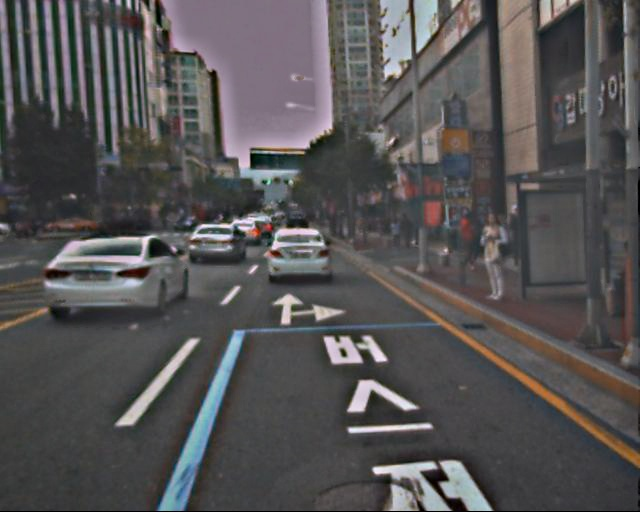person: (474, 210, 513, 304), (457, 211, 482, 271), (399, 214, 414, 251), (389, 217, 402, 249)
